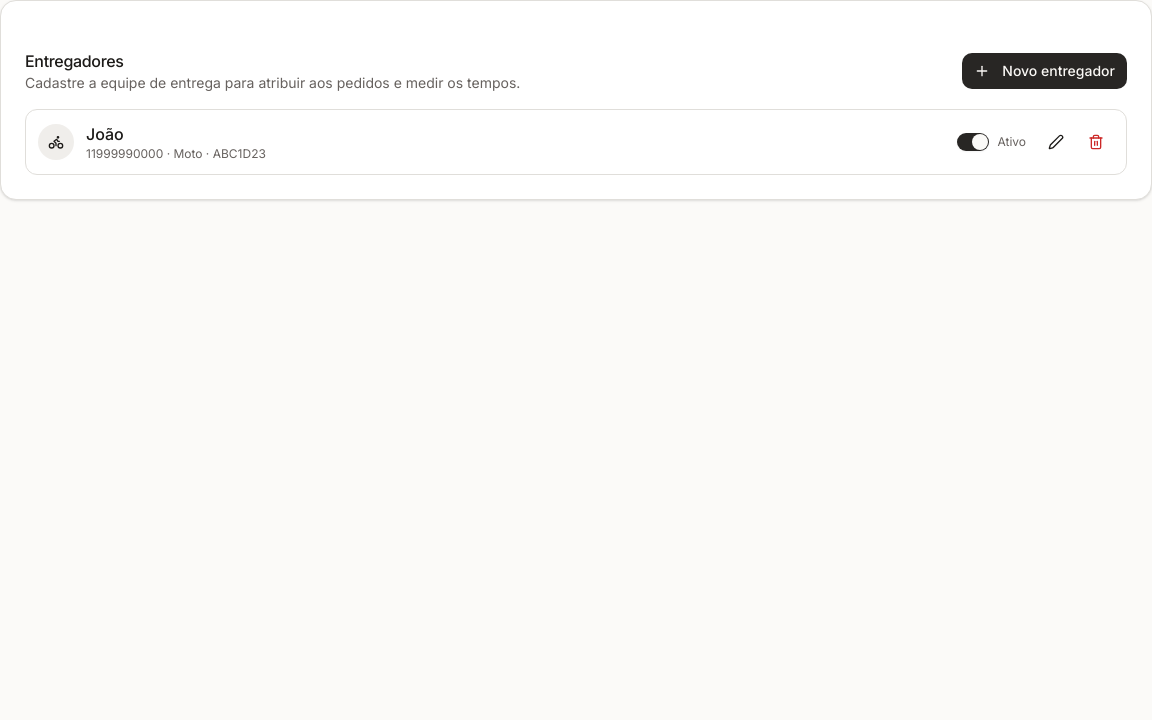
Test: DriversTab › edita o entregador existente pelo id
This screenshot has width=1152, height=720.
Later steps or results of the test are not shown.
Check: the text "João" is shown, box [86, 124, 124, 144]
Click the 2nd button. click: x=1056, y=142
box: [1038, 124, 1074, 160]
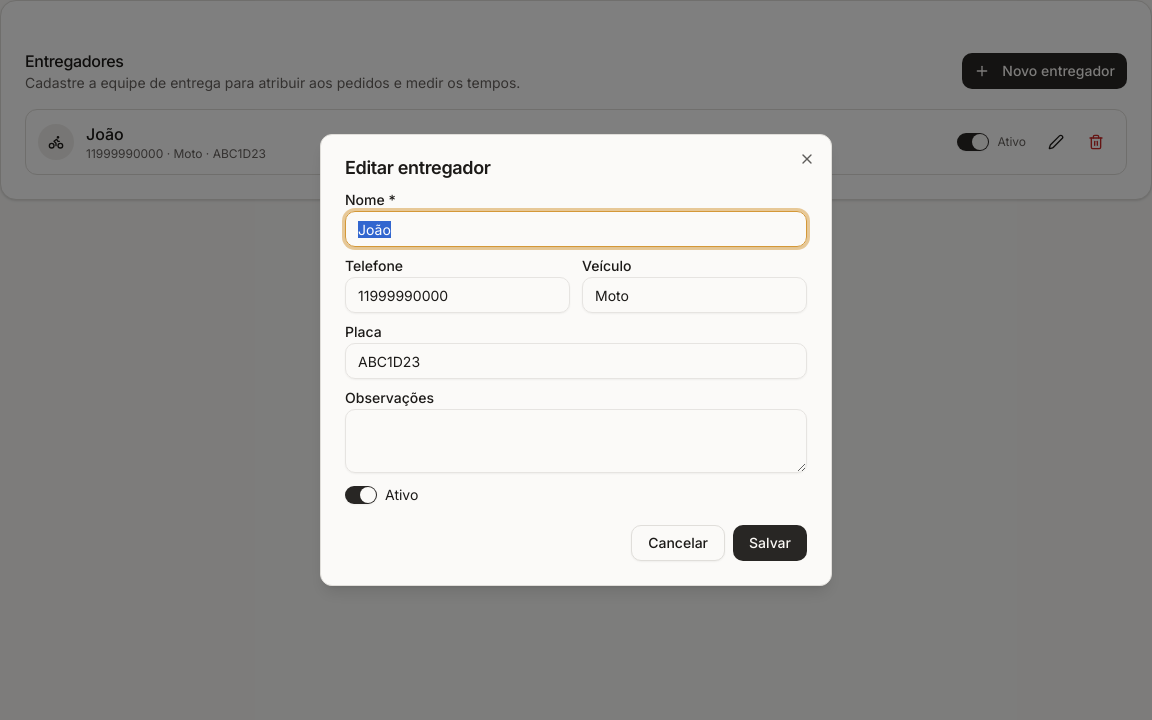
Check: the dialog shows "Editar entregador", box [345, 157, 490, 178]
